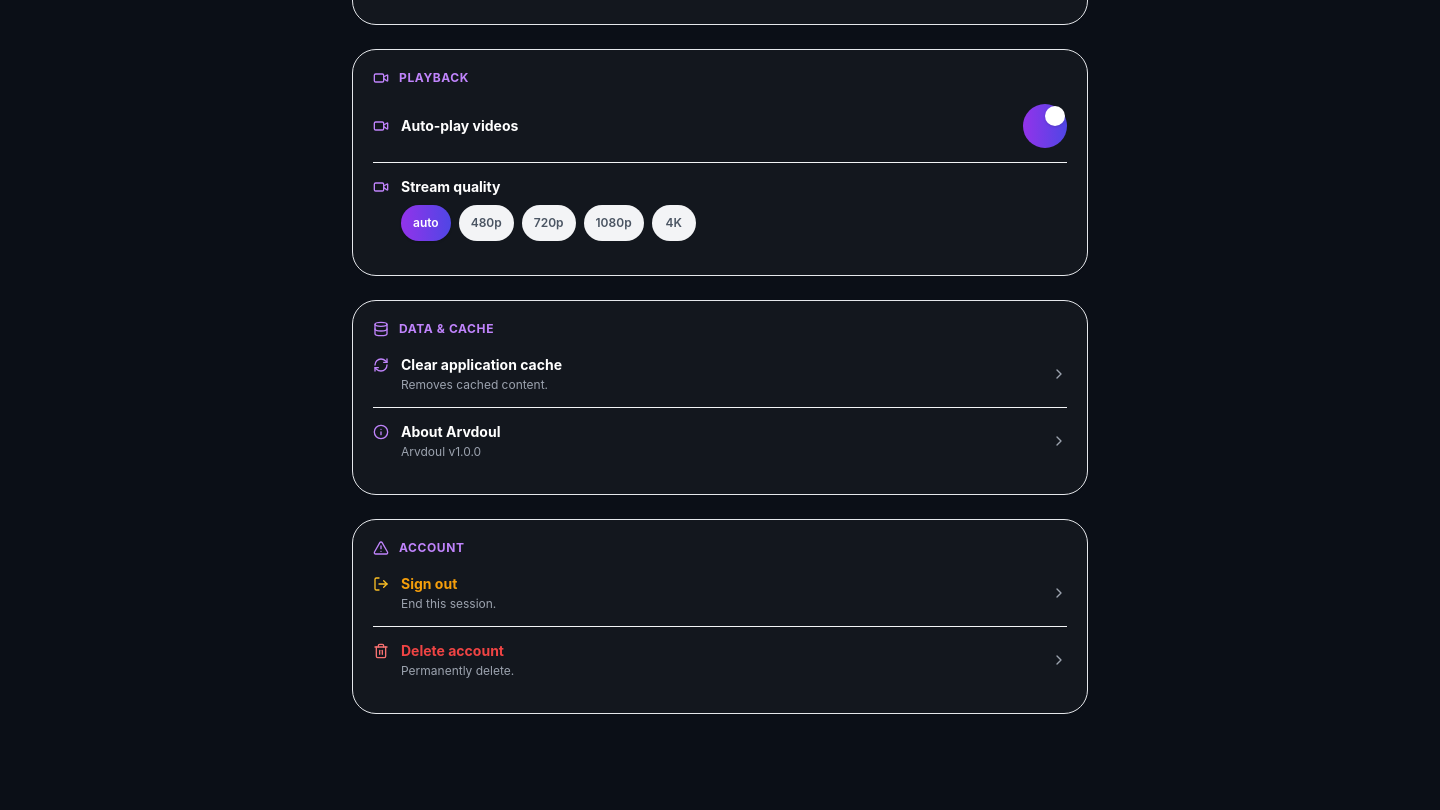
it: SettingsScreen › delete account opens the confirmation dialog
(page scrolled)
What coordinates should you click on to do the following:
click the text "Delete account"
I would click on:
 (458, 650)
Its box is left=401, top=640, right=514, bottom=660.
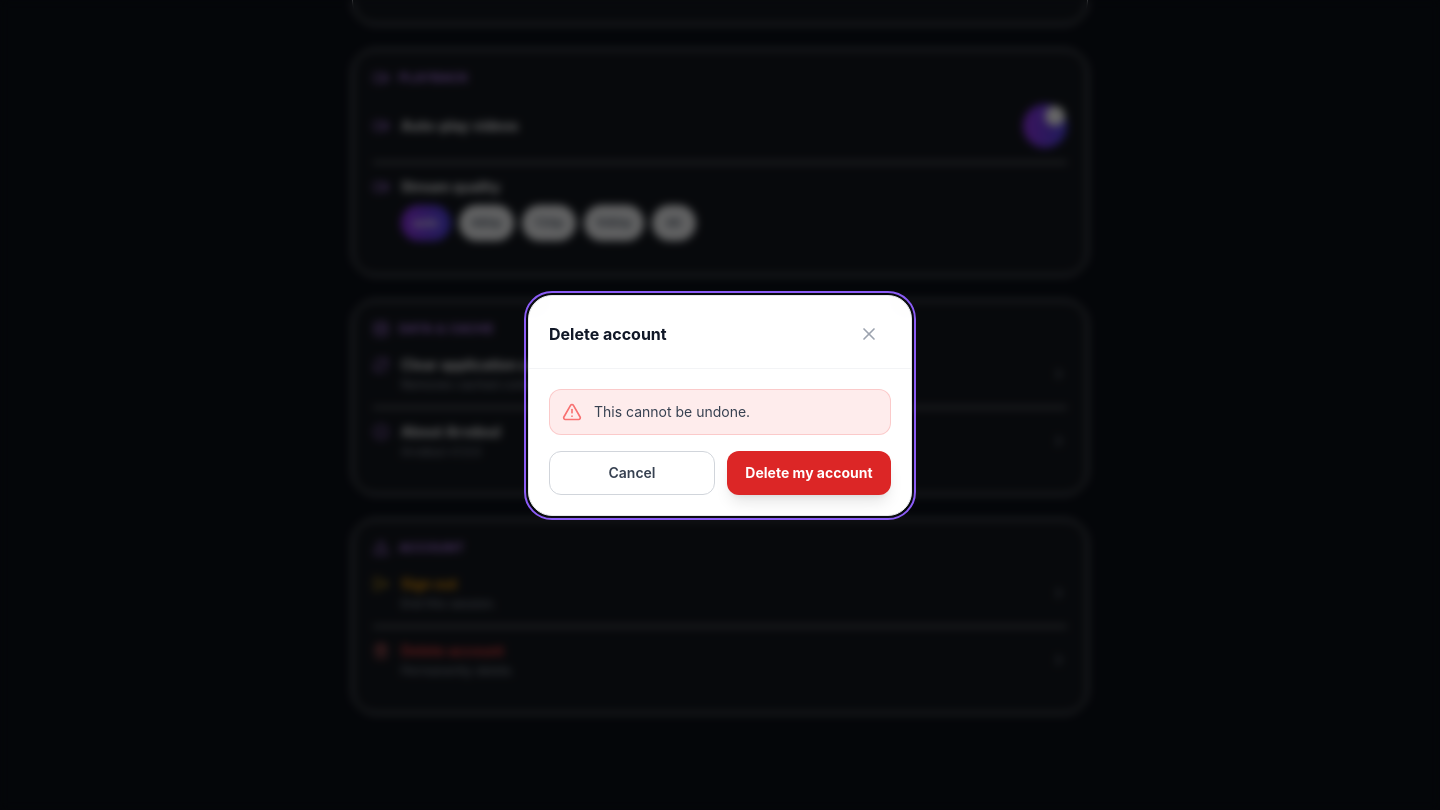
Expected: the dialog is shown, left=528, top=294, right=912, bottom=516
Expected: the button "Delete my account" is shown, left=727, top=450, right=891, bottom=494
